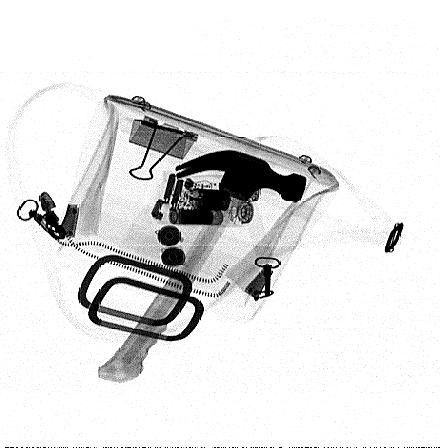Hammer: (96, 149, 307, 385)
